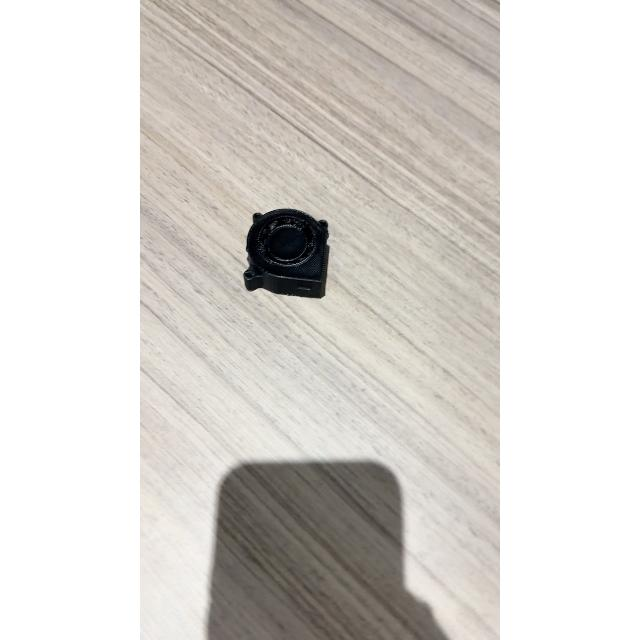Pieza_3: (239, 204, 343, 310)
